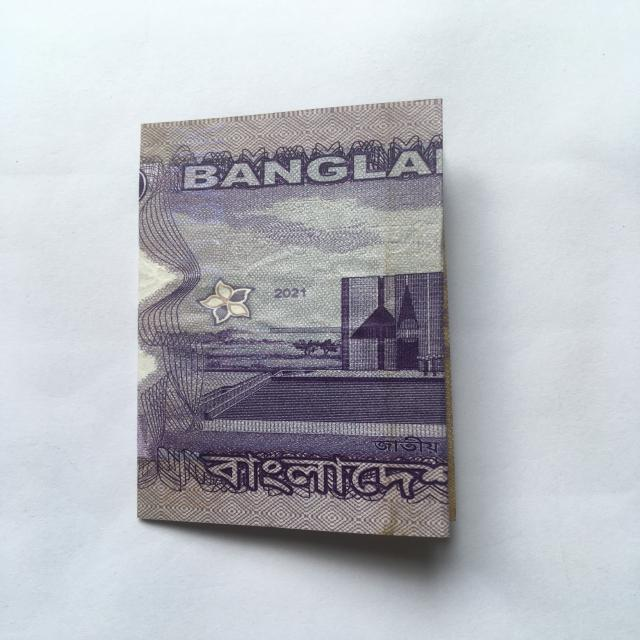Taka: (136, 99, 463, 557)
